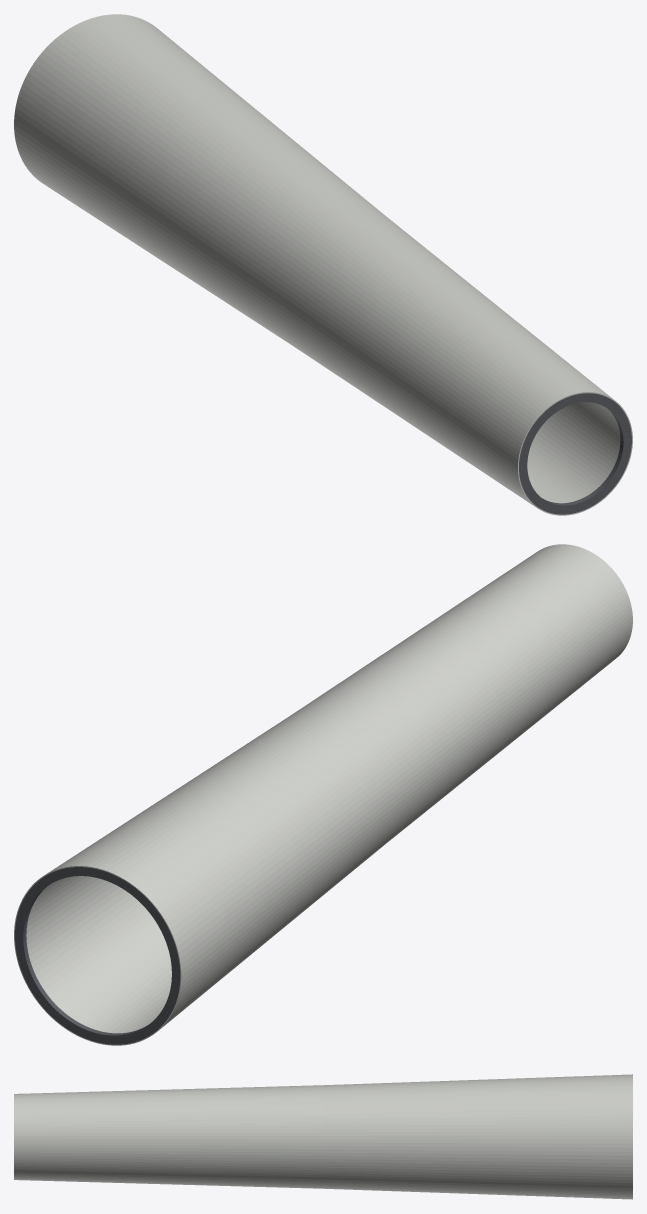
Rendered from tower_section_4.glb.
3 renders of one model, top to bottom at view 1: azimuth 30°, elevation 25°; view 2: azimuth 150°, elevation 25°; view 3: azimuth 270°, elevation 25°, orthographic. The views are drawn at different scales.
Parts seen in each view (by area): view 1: tower_section_4; view 2: tower_section_4; view 3: tower_section_4.
Boxes of the visible parts, x1,y1,x2,y2 form: tower_section_4: (14, 14, 632, 515); tower_section_4: (14, 544, 632, 1045); tower_section_4: (14, 1074, 632, 1199).
Size of the model in its own units: 4.36 by 4.36 by 21.57.
Materials: 2 (2 with a texture image).
